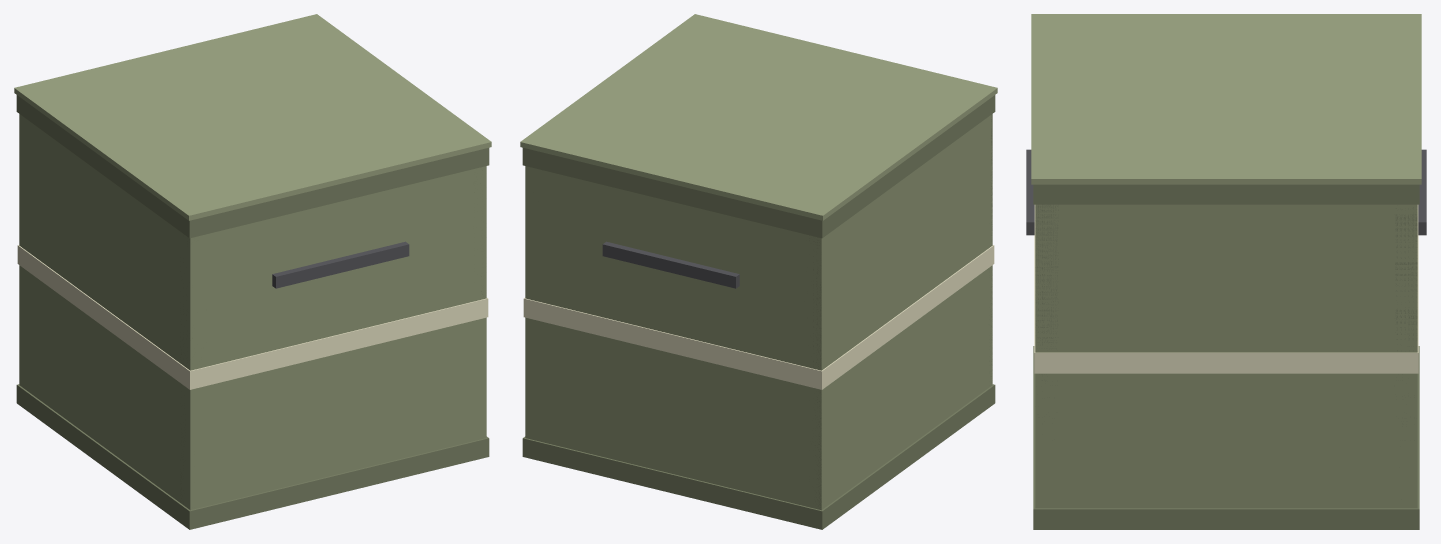
File: dm_milcrate.glb
3 renders of one model, left to right at view 1: azimuth 30°, elevation 25°; view 2: azimuth 150°, elevation 25°; view 3: azimuth 270°, elevation 25°, orthographic. The views are drawn at different scales.
Parts seen in each view (by area): view 1: milcrate; view 2: milcrate; view 3: milcrate.
Part boxes in pixels (bbox=[...]): milcrate: bbox=[14, 14, 491, 529]; milcrate: bbox=[520, 14, 997, 529]; milcrate: bbox=[1026, 14, 1426, 529].
Bounding box in the file's own units: 0.94 × 0.935 × 0.964.
